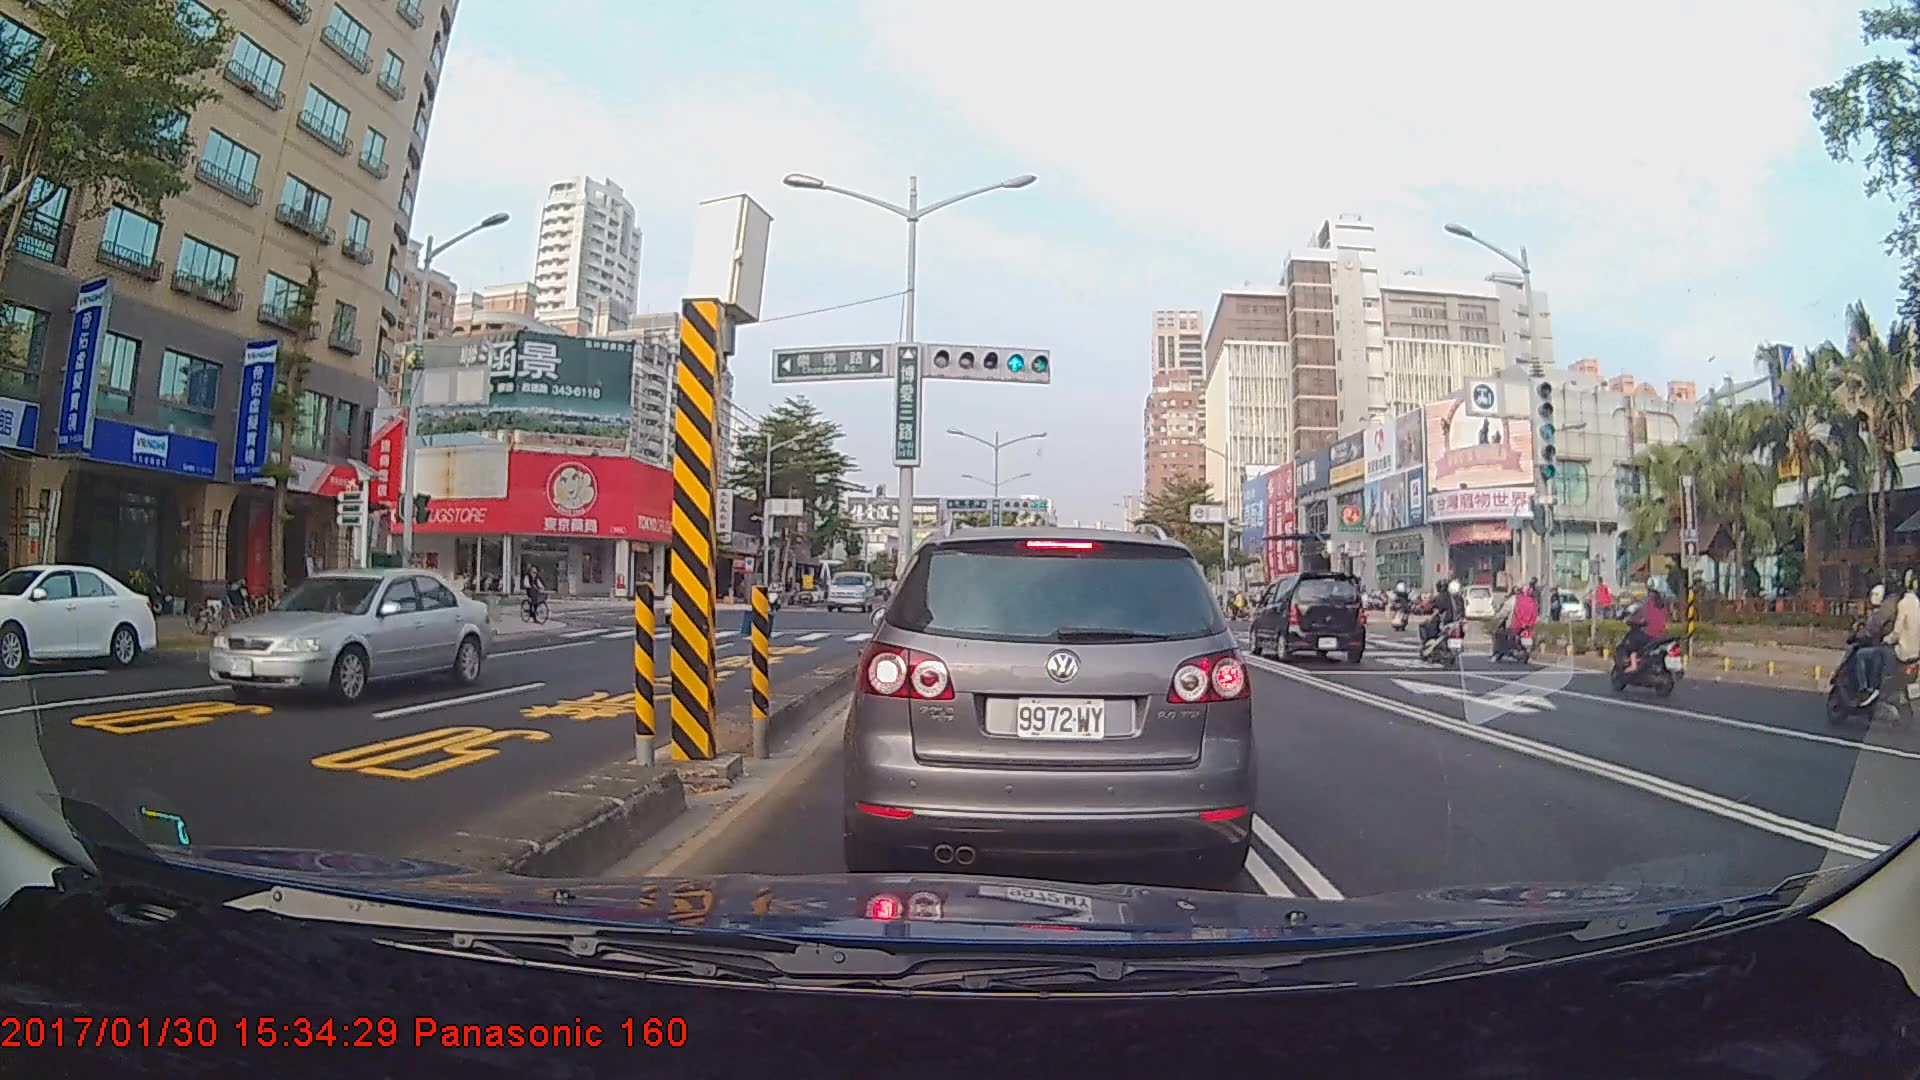rider: (1824, 564, 1920, 729), (1603, 570, 1693, 699), (1485, 582, 1548, 668), (1414, 582, 1473, 667), (518, 559, 561, 629), (1592, 574, 1615, 626)
vehicle: (854, 520, 1249, 879), (208, 567, 490, 705), (0, 561, 157, 671), (1246, 570, 1367, 667), (825, 570, 874, 614)
